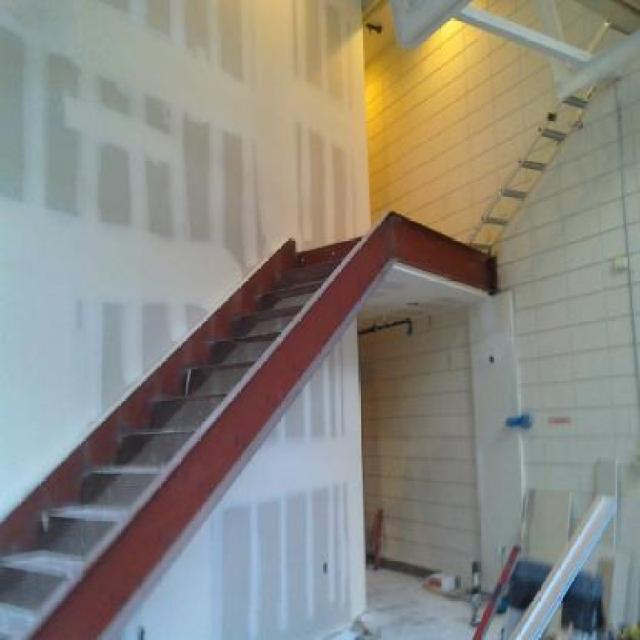stair: (0, 209, 394, 640), (465, 18, 629, 254)
